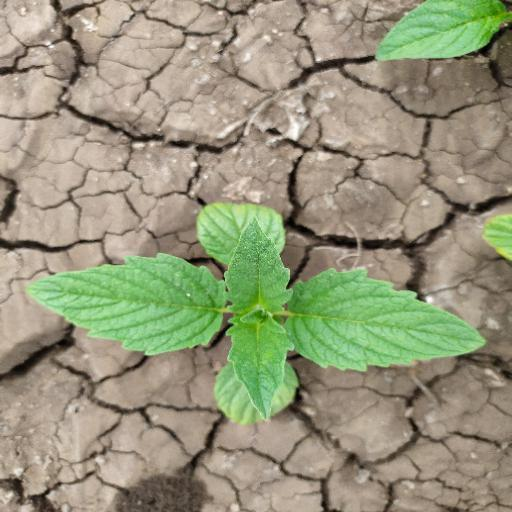crop: (21, 201, 498, 442)
